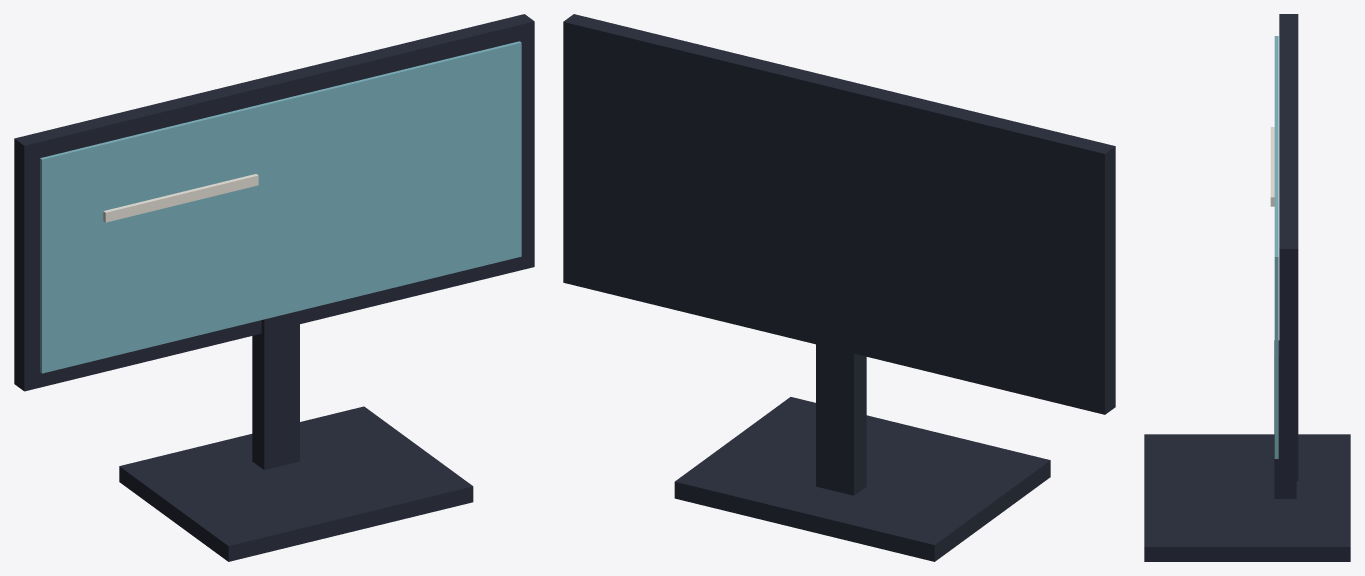
Rendered from monitor-27.glb.
The picture shows the model from 3 angles, left to right: view 1: azimuth 30°, elevation 25°; view 2: azimuth 150°, elevation 25°; view 3: azimuth 270°, elevation 25°; orthographic projection. The views are drawn at different scales.
Visible parts, largest first — view 1: monitor-27; view 2: monitor-27; view 3: monitor-27.
Part boxes in pixels (x1,y1,x2,y2): monitor-27: [14, 14, 534, 561]; monitor-27: [563, 14, 1115, 561]; monitor-27: [1144, 14, 1350, 561].
Bounding box in the file's own units: 62 × 46 × 23.
